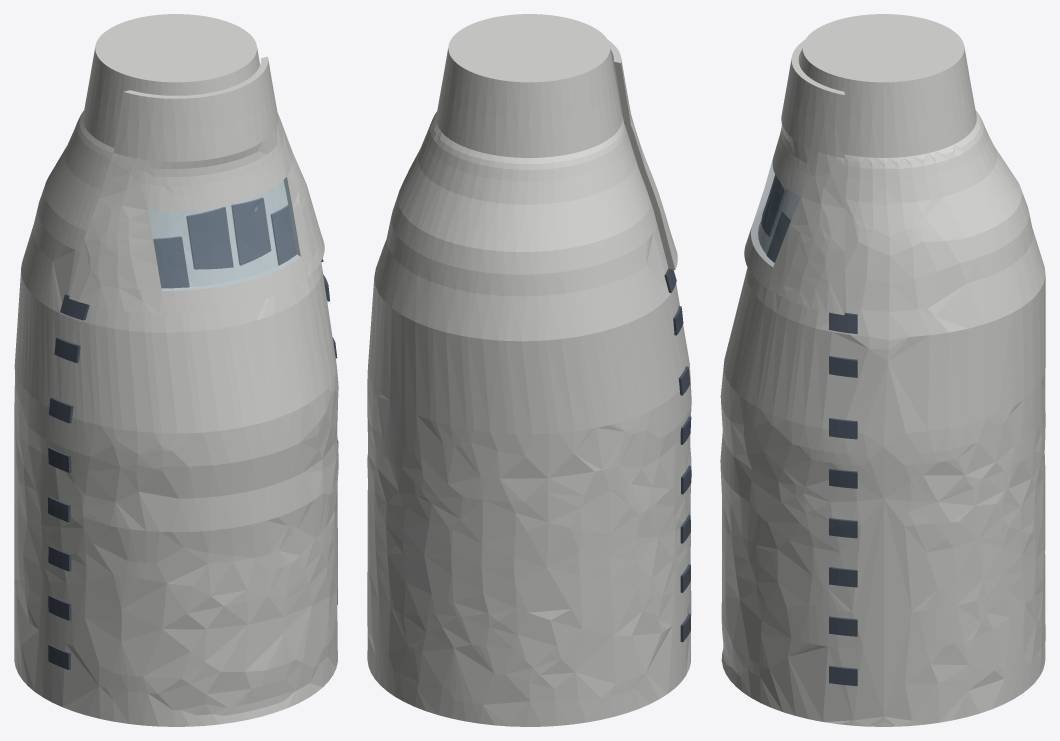
Rendered from cockpit04_inline_droop_cockpit.glb.
The picture shows the model from 3 angles, left to right: view 1: azimuth 30°, elevation 25°; view 2: azimuth 150°, elevation 25°; view 3: azimuth 270°, elevation 25°; orthographic projection.
Parts seen in each view (by area): view 1: fuselage, visor_frame, nose_hinge_section, visor_glass, windows; view 2: fuselage, nose_hinge_section, visor_frame, windows; view 3: fuselage, nose_hinge_section, visor_frame, windows, visor_glass.
Boxes of the visible parts, box(x1,y1,x2,y2) form: fuselage: box(14, 111, 338, 726); visor_frame: box(69, 56, 324, 313); nose_hinge_section: box(83, 14, 259, 147); visor_glass: box(148, 177, 300, 290); windows: box(48, 197, 338, 669); fuselage: box(367, 112, 691, 726); nose_hinge_section: box(436, 14, 622, 157); visor_frame: box(608, 40, 677, 269); windows: box(664, 268, 691, 642); fuselage: box(720, 110, 1045, 726); nose_hinge_section: box(799, 14, 976, 157); visor_frame: box(744, 40, 844, 315); windows: box(761, 174, 857, 685); visor_glass: box(751, 160, 800, 266).
Size of the model in its own units: 2.52 by 5.2 by 2.51.
